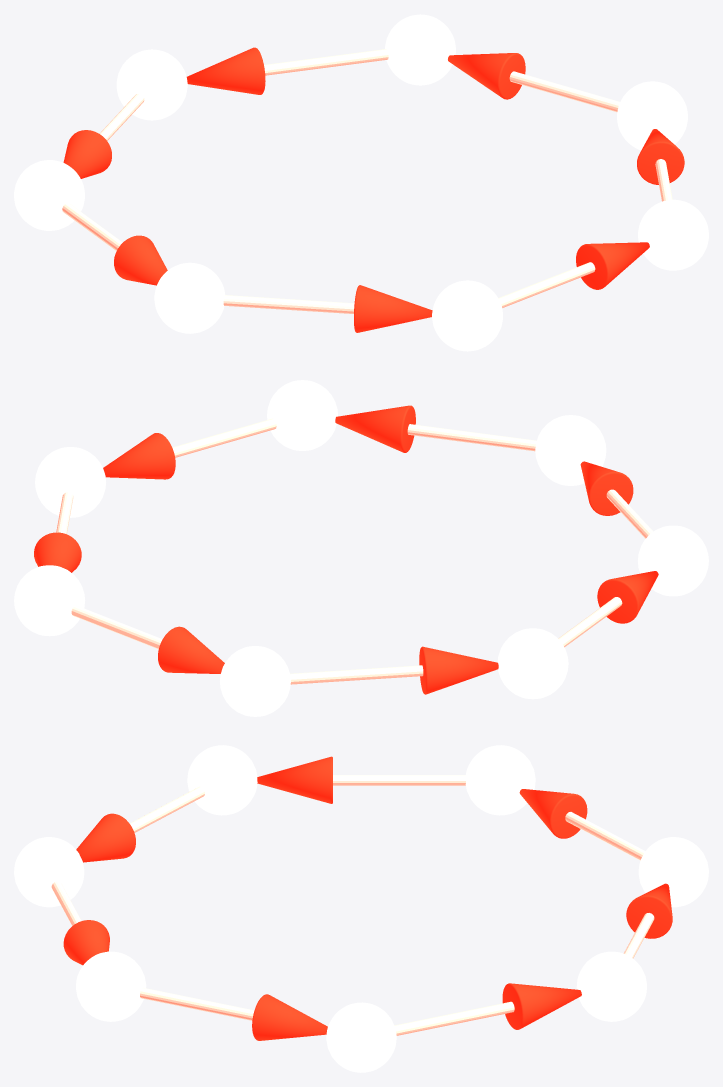
3 views of the same model, one above another, from view 1: azimuth 30°, elevation 25°; view 2: azimuth 150°, elevation 25°; view 3: azimuth 270°, elevation 25° (orthographic).
Parts seen in each view (by area): view 1: Sphere.0005, Sphere.0004, Sphere.0006, Sphere.0001, Sphere.0003, Sphere.0002, Sphere.0000, Alpha.0001, Alpha.0004, Alpha.0000, Alpha.0005, Alpha.0003 (+8 smaller); view 2: Sphere.0002, Sphere.0003, Sphere.0006, Sphere.0001, Sphere.0004, Sphere.0000, Sphere.0005, Alpha.0006, Alpha.0005, Alpha.0002, Alpha.0001, Alpha.0003 (+8 smaller); view 3: Sphere.0000, Sphere.0001, Sphere.0006, Sphere.0003, Sphere.0004, Sphere.0005, Sphere.0002, Alpha.0006, Alpha.0000, Alpha.0003, Alpha.0004, Alpha.0002 (+9 smaller).
Part boxes in pixels (x1,y1,x2,y2): Sphere.0005: (432, 280, 502, 351); Sphere.0004: (154, 262, 225, 333); Sphere.0006: (638, 199, 708, 270); Sphere.0001: (385, 14, 455, 85); Sphere.0003: (14, 160, 84, 230); Sphere.0002: (116, 49, 187, 120); Sphere.0000: (617, 81, 687, 150); Alpha.0001: (186, 47, 265, 94); Alpha.0004: (354, 285, 432, 332); Alpha.0000: (448, 53, 525, 99); Alpha.0005: (576, 242, 649, 289); Alpha.0003: (114, 235, 167, 285); Sphere.0002: (220, 646, 290, 716); Sphere.0003: (497, 628, 568, 699); Sphere.0006: (267, 380, 337, 450); Sphere.0001: (14, 565, 85, 636); Sphere.0004: (638, 525, 708, 596); Sphere.0000: (35, 447, 105, 517); Sphere.0005: (535, 415, 606, 485); Alpha.0006: (103, 433, 175, 479); Alpha.0005: (335, 405, 415, 452); Alpha.0002: (419, 646, 498, 694); Alpha.0001: (158, 626, 224, 673); Alpha.0003: (597, 571, 658, 623); Sphere.0000: (326, 1002, 396, 1072); Sphere.0001: (576, 951, 646, 1021); Sphere.0006: (76, 951, 146, 1021); Sphere.0003: (465, 745, 535, 815); Sphere.0004: (187, 745, 257, 815); Sphere.0005: (14, 837, 84, 907); Sphere.0002: (638, 837, 708, 907); Alpha.0006: (252, 994, 327, 1040); Alpha.0000: (502, 983, 581, 1029); Alpha.0003: (257, 756, 332, 803); Alpha.0004: (76, 813, 135, 862); Alpha.0002: (519, 789, 587, 838).
Size of the model in its own units: 1.25 by 0.1296 by 1.28.
